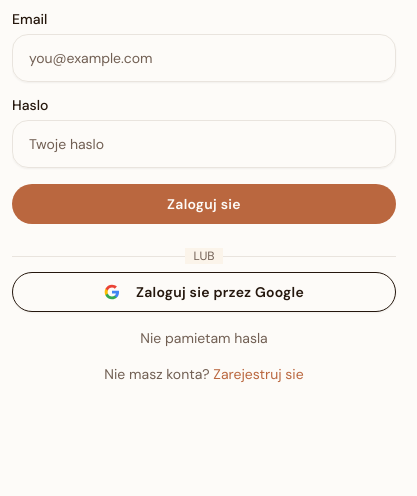
Test case: SignInButton › shows validation errors when submitting empty form
Click the button "Zaloguj sie" at (204, 204), box [12, 184, 396, 224]
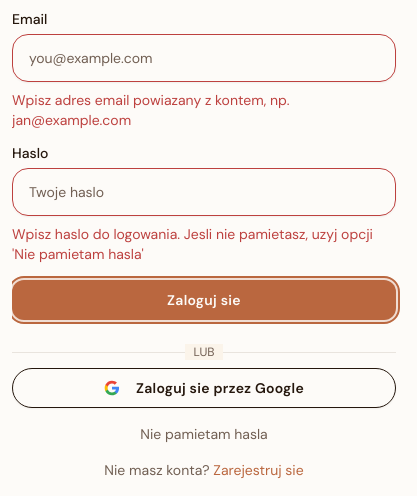
expect the text "Wpisz adres email powiazany z kontem, np. jan@example.com" is shown: met, box [12, 91, 290, 129]
expect the text "Wpisz haslo do logowania. Jesli nie pamietasz, uzyj opcji 'Nie pamietam hasla'" is shown: met, box [12, 224, 396, 264]
